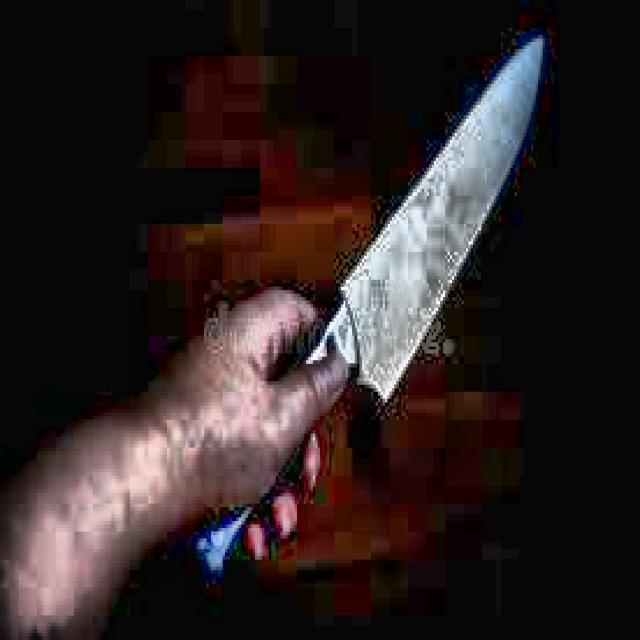knife: (199, 40, 543, 575)
